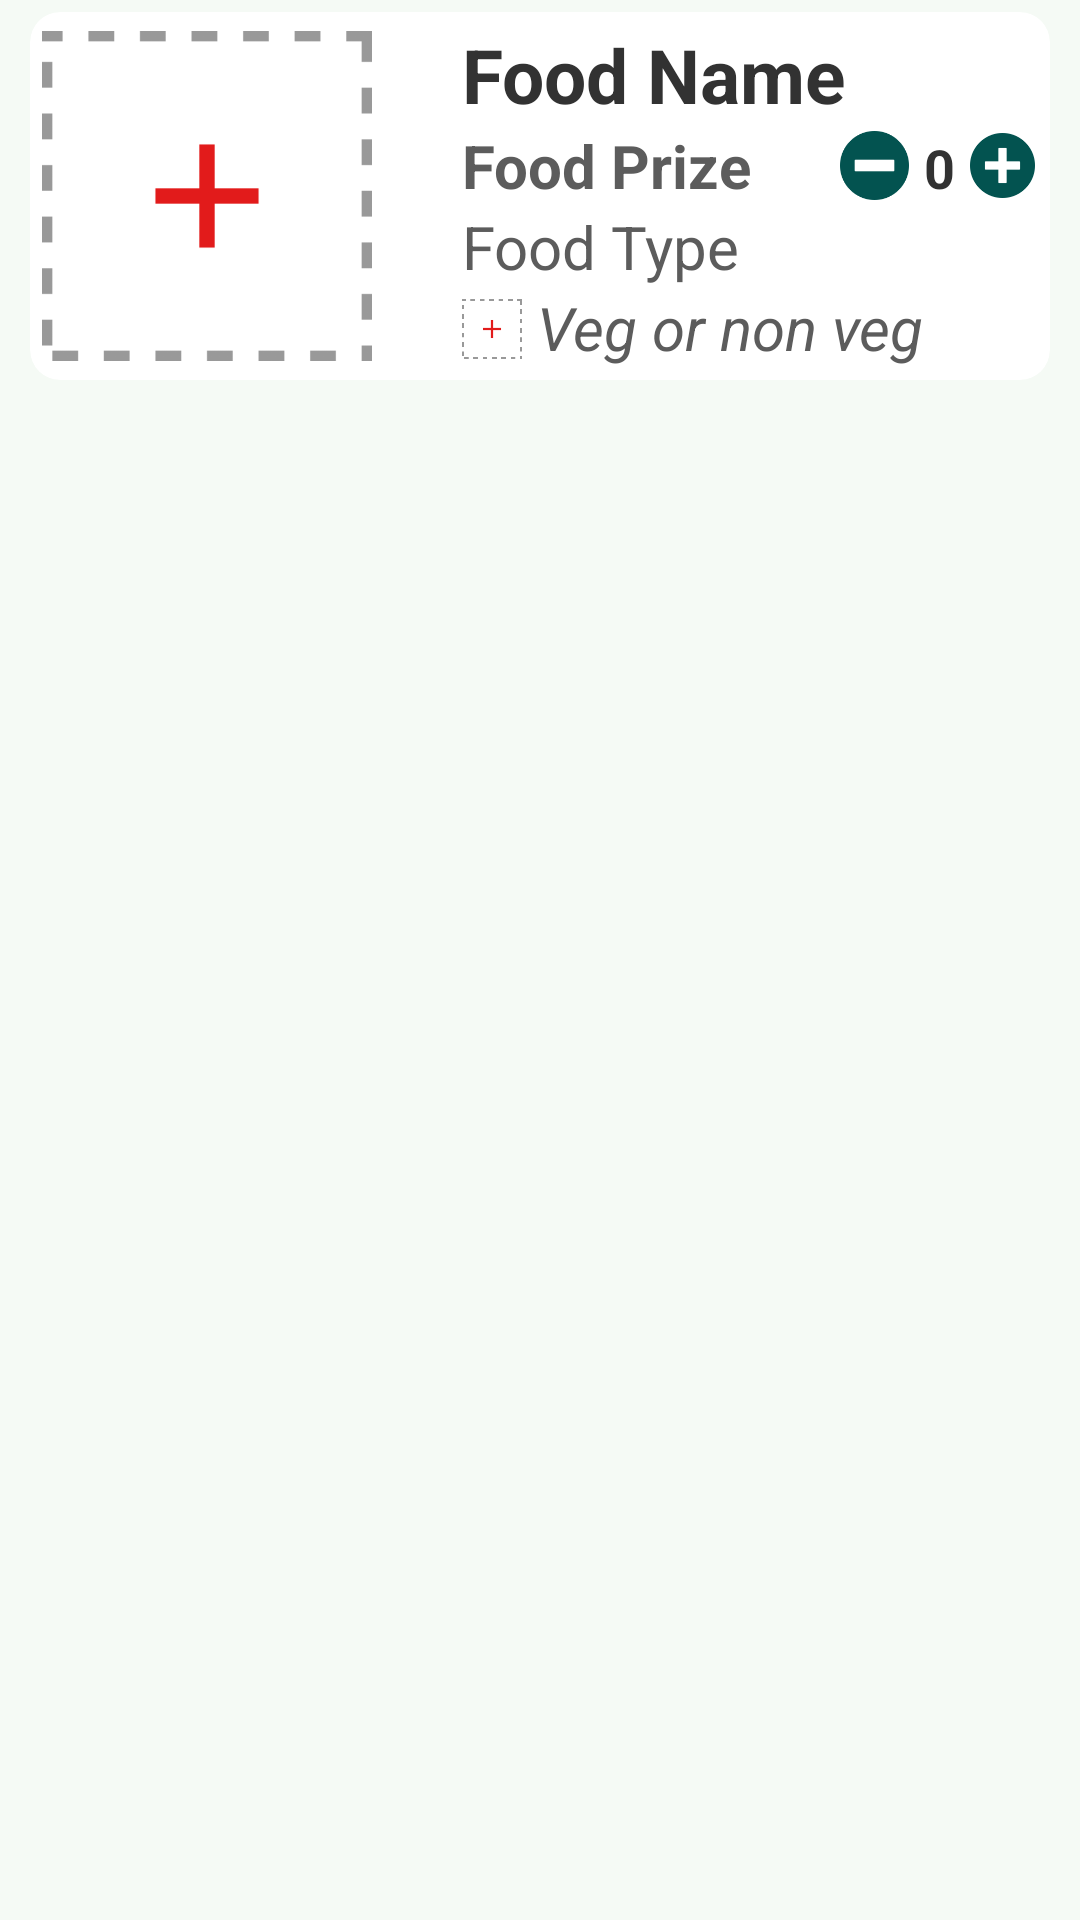

Point at icon controls on the screen. Image size 1080*1920, points as (x,y).
addimage: (207,196), (492,329)
plus: (1002,165)
remove: (874,165)
